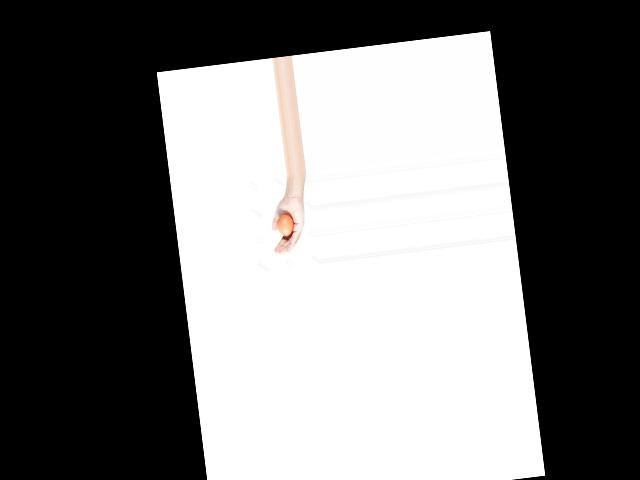egg: (276, 213, 295, 236)
